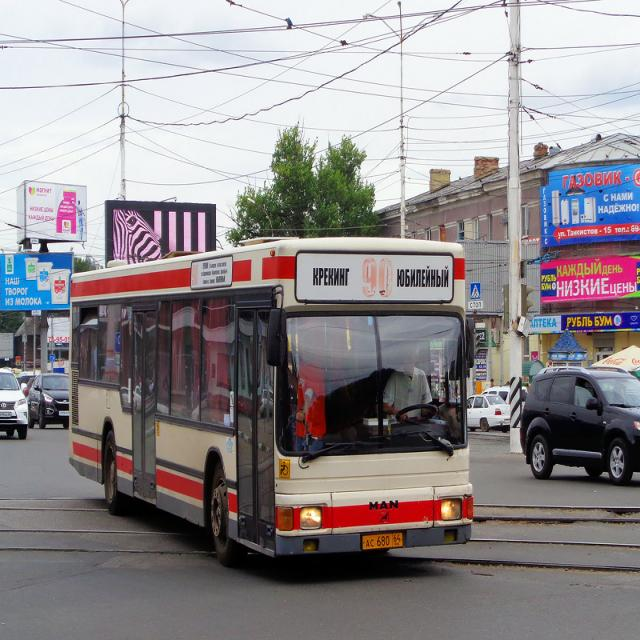number-of-bus: (359, 257, 397, 303), (192, 260, 200, 289)
